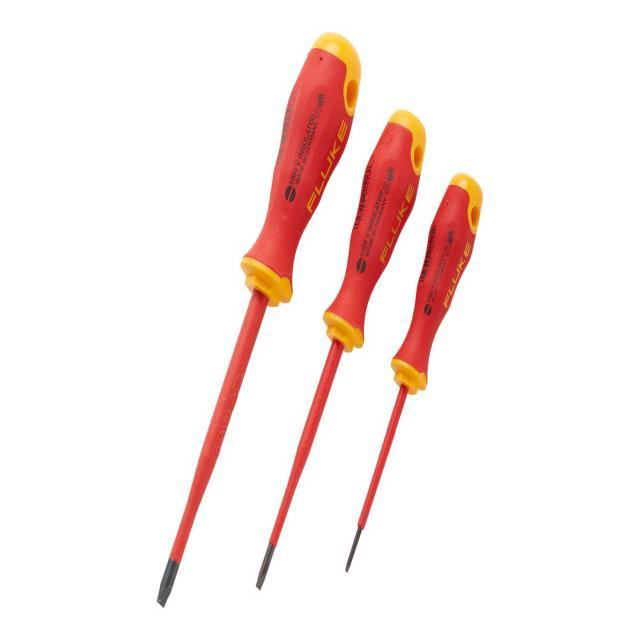screwdriver: (147, 32, 365, 610), (253, 104, 428, 596), (345, 170, 483, 578)
